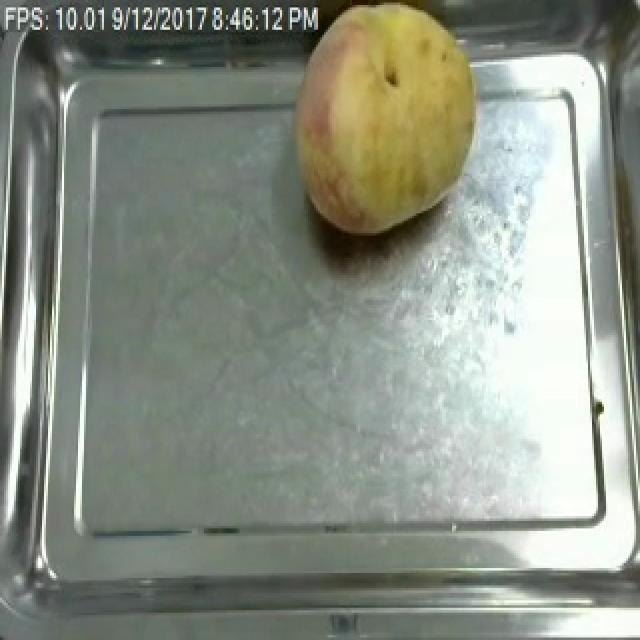Fruit: (284, 0, 490, 243)
